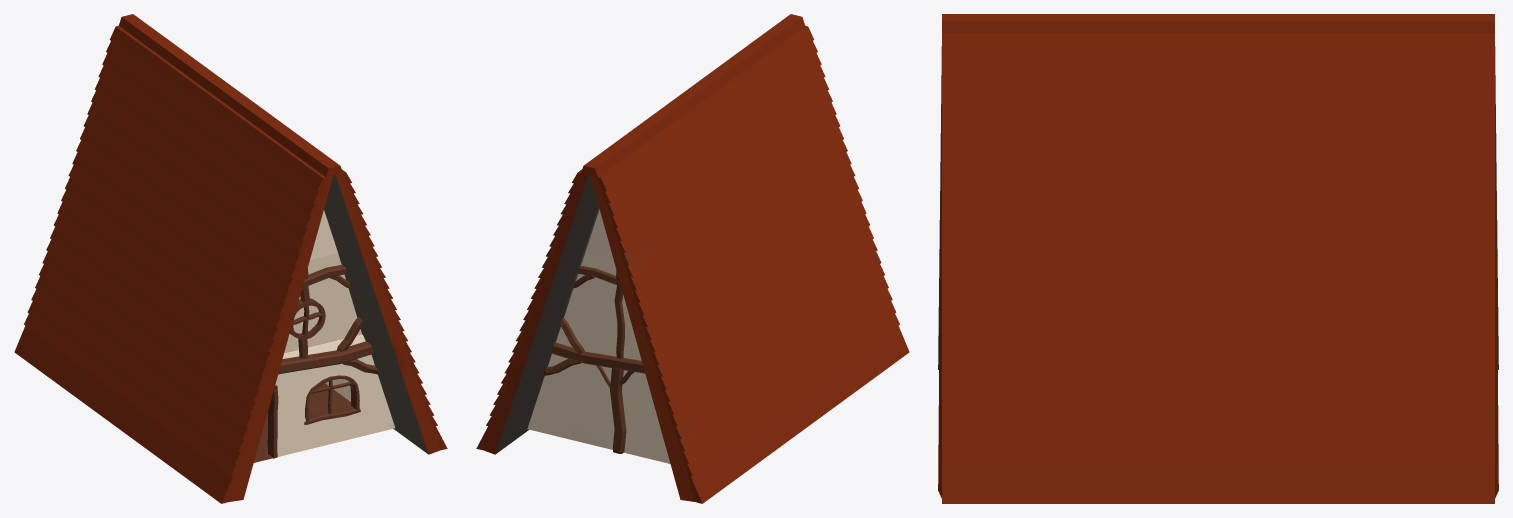
File: casaofc.fbx
3 views of the same model, side by side, from view 1: azimuth 30°, elevation 25°; view 2: azimuth 150°, elevation 25°; view 3: azimuth 270°, elevation 25° (orthographic). The views are drawn at different scales.
Visible parts, largest first — view 1: casa; view 2: casa; view 3: casa.
Boxes of the visible parts, x1,y1,x2,y2 form: casa: (14, 14, 447, 503); casa: (476, 14, 909, 503); casa: (938, 14, 1498, 503).
Bounding box in the file's own units: 2152 × 2812 × 3464.
